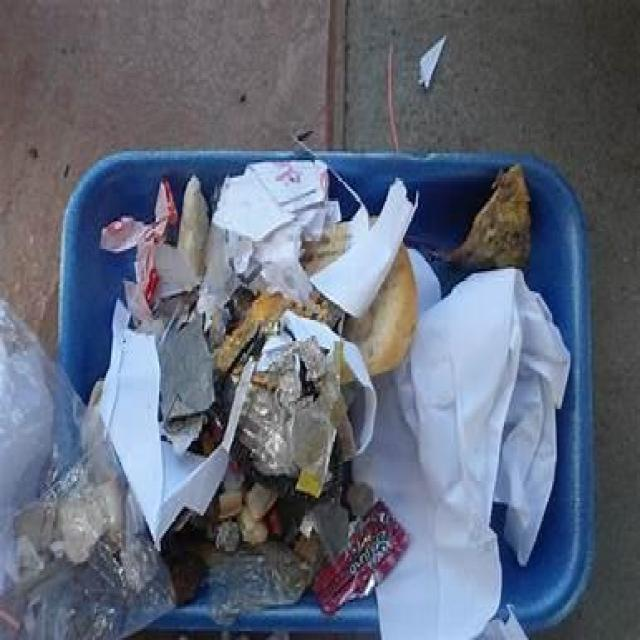Garbage: (0, 158, 574, 640)
Plastic_Bag: (0, 300, 175, 637), (210, 539, 311, 623)
Plastic_wraper: (100, 181, 178, 325), (313, 499, 409, 613)
